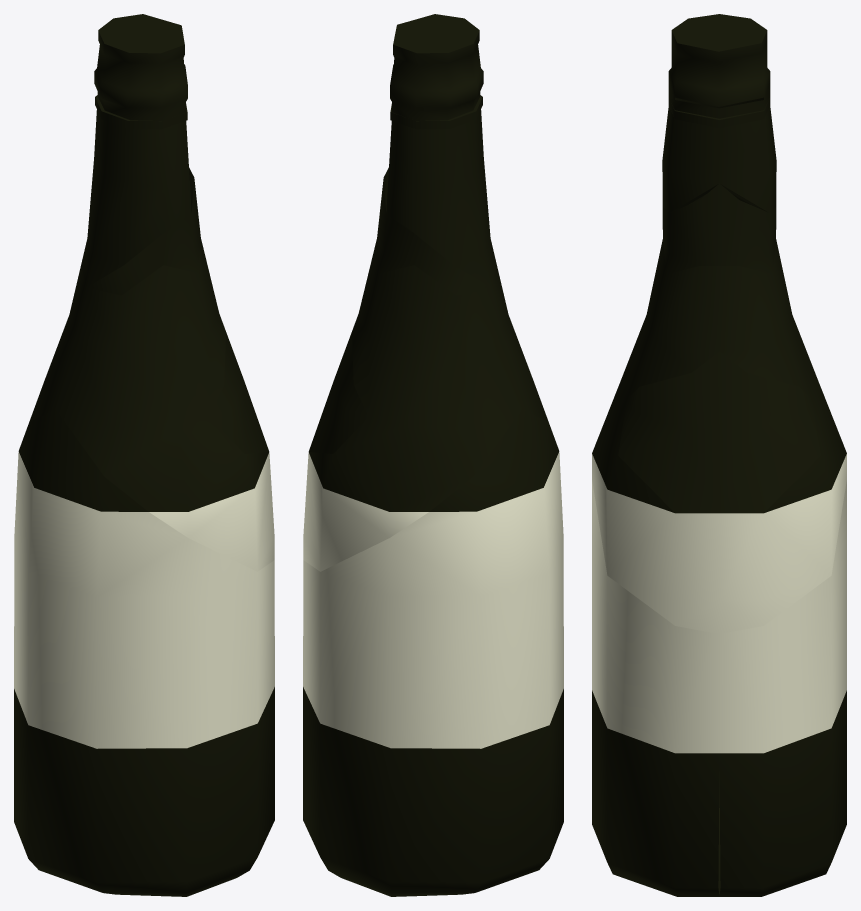
The model's file is Wine_shattered.fbx.
3 renders of one model, left to right at view 1: azimuth 30°, elevation 25°; view 2: azimuth 150°, elevation 25°; view 3: azimuth 270°, elevation 25°, orthographic.
Visible parts, largest first — view 1: Object004, Cylinder001, Object001, Object002, Object003; view 2: Object004, Cylinder001, Object001, Object002, Object003; view 3: Object004, Cylinder001, Object003, Object001, Object002.
Part boxes in pixels (left/top/right/bottom): Object004: left=14, top=410, right=274, bottom=896; Cylinder001: left=29, top=239, right=274, bottom=571; Object001: left=87, top=14, right=191, bottom=286; Object002: left=81, top=167, right=200, bottom=295; Object003: left=209, top=332, right=269, bottom=453; Object004: left=303, top=410, right=563, bottom=896; Cylinder001: left=303, top=239, right=548, bottom=571; Object001: left=386, top=14, right=490, bottom=286; Object002: left=377, top=167, right=496, bottom=295; Object003: left=308, top=332, right=368, bottom=453; Object004: left=592, top=480, right=846, bottom=896; Cylinder001: left=592, top=239, right=846, bottom=633; Object003: left=618, top=352, right=820, bottom=513; Object001: left=662, top=14, right=776, bottom=212; Object002: left=662, top=183, right=776, bottom=274.
Bounding box in the file's own units: 18.84 × 65.48 × 18.41.
